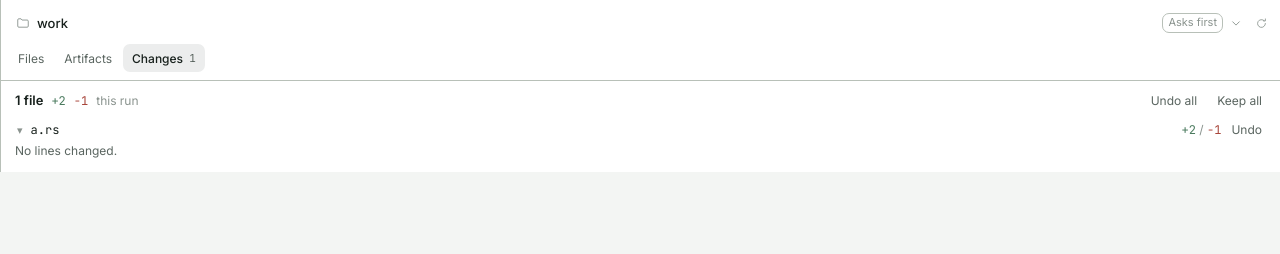
the Changes sub-view (PRJ-UI-3) › asks before Undo all rather than putting everything back on one click
Click the button "Undo all" at (1174,100), box [1147,91,1201,110]
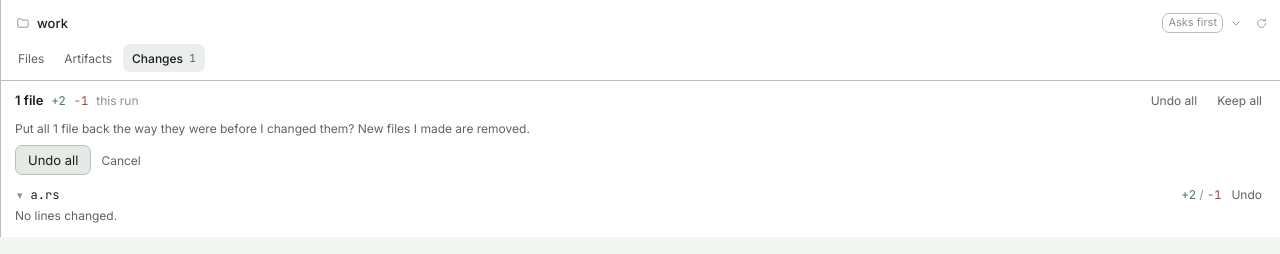
Expected: the text "Put all 1 file back" is shown, [15,121,530,136]
